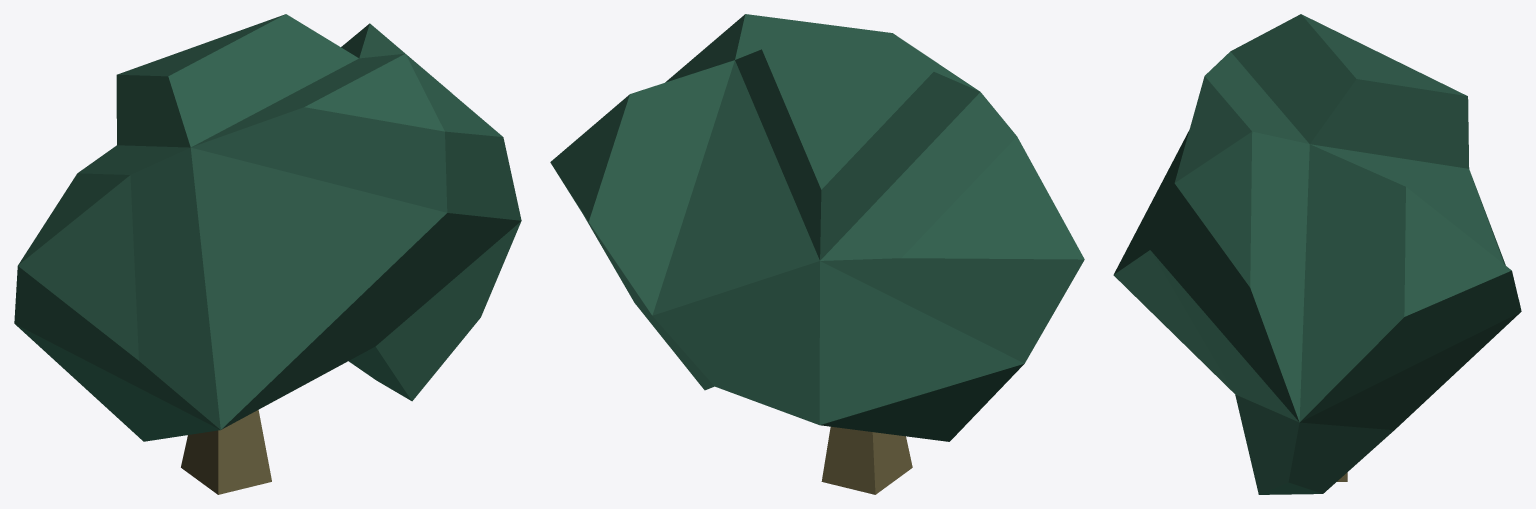
Rendered from BushAutumn4_Alt2.fbx.
3 views of the same model, side by side, from view 1: azimuth 30°, elevation 25°; view 2: azimuth 150°, elevation 25°; view 3: azimuth 270°, elevation 25° (orthographic).
Visible parts, largest first — view 1: BushAutumn4_Alt2; view 2: BushAutumn4_Alt2; view 3: BushAutumn4_Alt2.
Part boxes in pixels (x1,y1,x2,y2): BushAutumn4_Alt2: (14,14,521,494); BushAutumn4_Alt2: (550,14,1084,494); BushAutumn4_Alt2: (1113,14,1521,494).
Size of the model in its own units: 0.4664 by 0.3748 by 0.3221.
